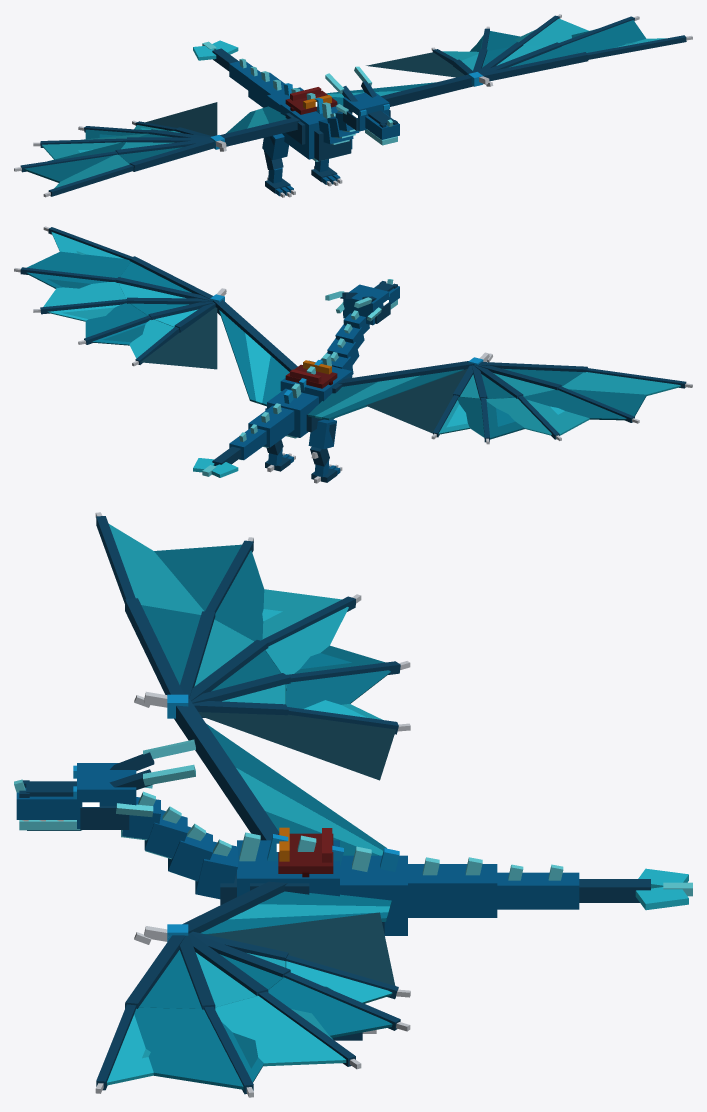
The model's file is water_dragon.glb.
3 renders of one model, top to bottom at view 1: azimuth 30°, elevation 25°; view 2: azimuth 150°, elevation 25°; view 3: azimuth 270°, elevation 25°, orthographic. The views are drawn at different scales.
Visible parts, largest first — view 1: Wing_L_Outer_m, Wing_R_Outer_m, Torso_m, Head_m, Wing_R_m, Wing_L_m, Leg_BR_m, Tail_m, Neck_m, Tail3_m, Saddle_m, Tail2_m (+1 smaller); view 2: Wing_L_Outer_m, Wing_R_Outer_m, Wing_L_m, Wing_R_m, Torso_m, Head_m, Neck_m, Leg_BR_m, Tail_m, Tail3_m, Saddle_m, Tail2_m (+1 smaller); view 3: Wing_R_Outer_m, Wing_L_Outer_m, Wing_R_m, Head_m, Torso_m, Wing_L_m, Neck_m, Tail_m, Tail2_m, Tail3_m, Saddle_m.
Part boxes in pixels (box(x1,y1,x2,y2)): Wing_L_Outer_m: box(366, 14, 692, 86); Wing_R_Outer_m: box(14, 102, 226, 197); Torso_m: box(267, 83, 352, 161); Head_m: box(325, 66, 399, 139); Wing_R_m: box(220, 106, 300, 146); Wing_L_m: box(326, 74, 473, 106); Leg_BR_m: box(262, 133, 295, 197); Tail_m: box(248, 71, 284, 107); Neck_m: box(318, 110, 359, 144); Tail3_m: box(193, 40, 238, 71); Saddle_m: box(285, 87, 337, 114); Tail2_m: box(229, 58, 261, 90); Wing_L_Outer_m: box(14, 226, 226, 369); Wing_R_Outer_m: box(366, 352, 692, 444); Wing_L_m: box(213, 300, 297, 406); Wing_R_m: box(308, 361, 474, 420); Torso_m: box(267, 353, 352, 438); Head_m: box(325, 279, 399, 325); Neck_m: box(320, 310, 369, 374); Leg_BR_m: box(308, 419, 342, 483); Tail_m: box(248, 403, 294, 447); Tail3_m: box(193, 446, 241, 477); Saddle_m: box(285, 360, 337, 388); Tail2_m: box(229, 424, 266, 460); Wing_R_Outer_m: box(95, 512, 410, 780); Wing_L_Outer_m: box(95, 912, 410, 1097); Wing_R_m: box(174, 699, 386, 855); Head_m: box(14, 739, 195, 829); Torso_m: box(220, 832, 407, 935); Wing_L_m: box(182, 881, 391, 934); Neck_m: box(121, 791, 237, 899); Tail_m: box(408, 857, 497, 917); Tail2_m: box(497, 864, 579, 909); Tail3_m: box(579, 868, 692, 910); Saddle_m: box(278, 827, 333, 877).
Size of the model in its own units: 15.93 by 3.35 by 7.93.
